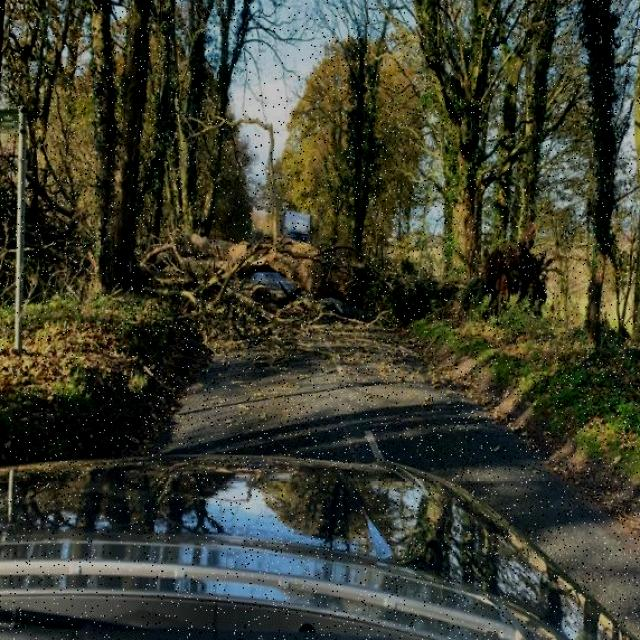fallen_object: (144, 171, 428, 366)
